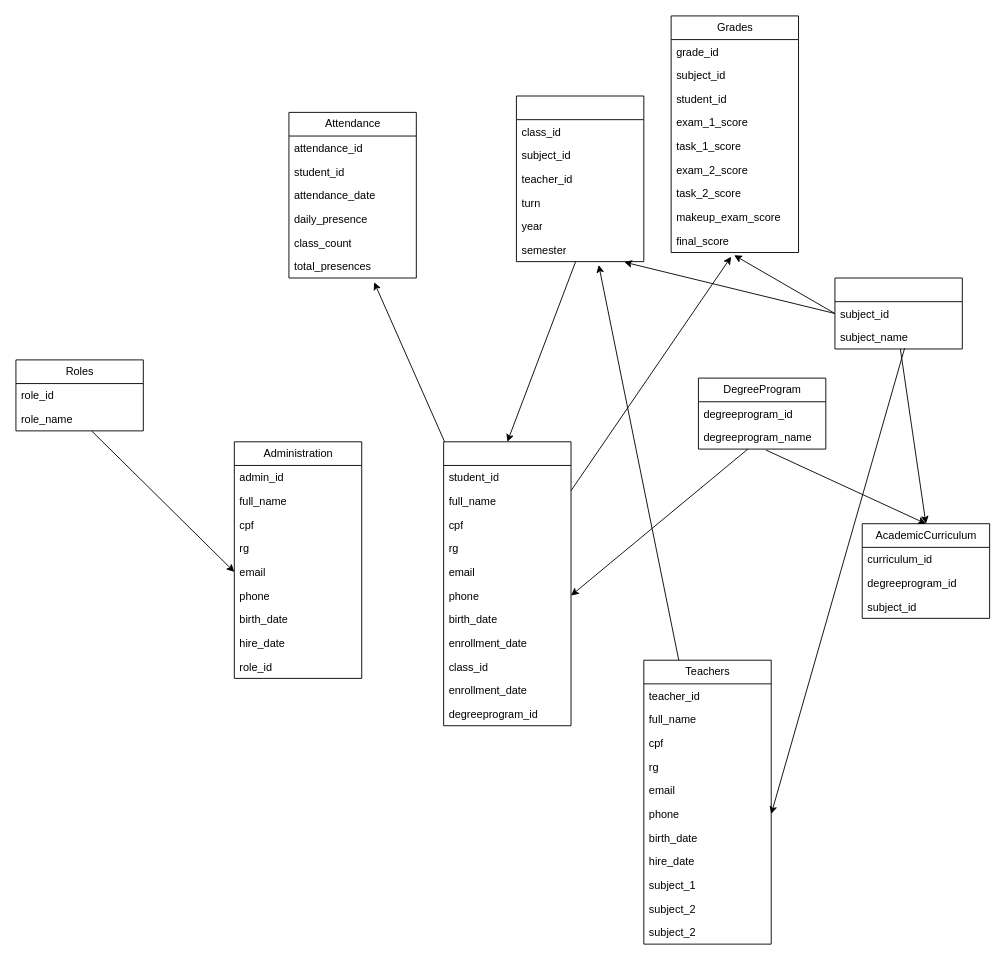
Image size: 1006x963. Some labels were removed from this diagram. The shapes that lost their labels are listed below. From the top down, each one's box as (x1, y1, x2, y2) in pixels, then its label:
(516, 95, 644, 262): Classes
(834, 277, 962, 349): Subjects
(443, 441, 571, 726): Students
